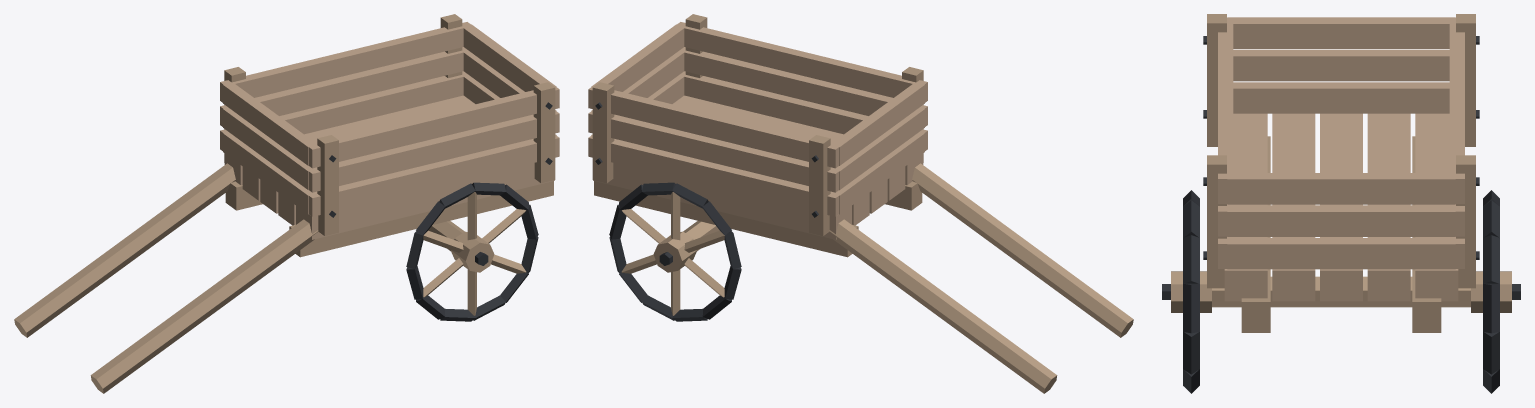
File: handcart.glb
3 renders of one model, left to right at view 1: azimuth 30°, elevation 25°; view 2: azimuth 150°, elevation 25°; view 3: azimuth 270°, elevation 25°, orthographic. The views are drawn at different scales.
Parts seen in each view (by area): view 1: handcart_plank, handcart_wood, handcart_iron; view 2: handcart_plank, handcart_wood, handcart_iron; view 3: handcart_plank, handcart_wood, handcart_iron.
Boxes of the visible parts, x1,y1,x2,y2 form: handcart_plank: (220,22,559,239); handcart_wood: (14,14,555,393); handcart_iron: (329,102,552,321); handcart_plank: (588,22,927,239); handcart_wood: (592,14,1133,393); handcart_iron: (595,102,818,321); handcart_plank: (1218,17,1464,301); handcart_wood: (1171,14,1511,332); handcart_iron: (1162,36,1520,393).
Bounding box in the file's own units: 0.6966 × 0.2999 × 0.3507.
